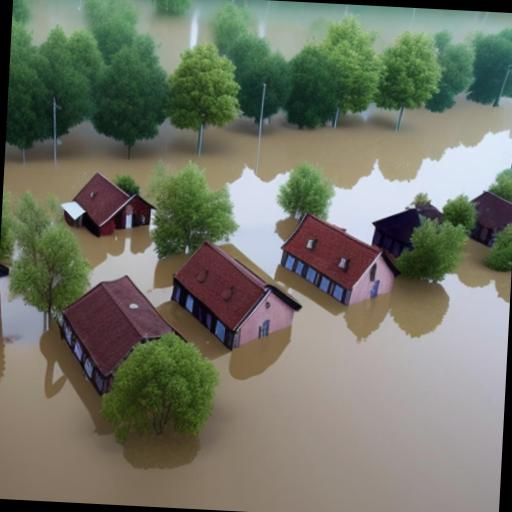flood: (0, 97, 512, 512), (233, 0, 512, 59), (3, 123, 196, 201), (127, 0, 232, 73), (26, 0, 84, 44)
house: (54, 268, 194, 400), (172, 236, 303, 368), (276, 204, 394, 316), (60, 166, 150, 242), (469, 176, 512, 247), (372, 204, 421, 264), (0, 245, 12, 326)
